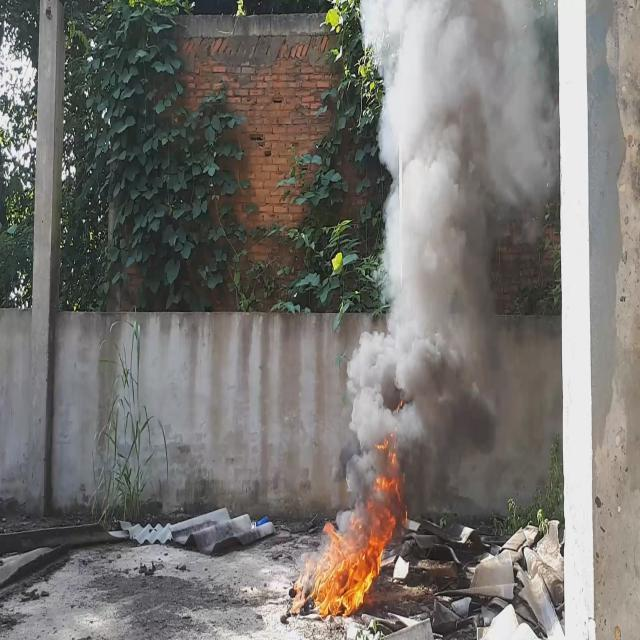Fire: (314, 473, 401, 614)
Smoke: (346, 0, 555, 499)
